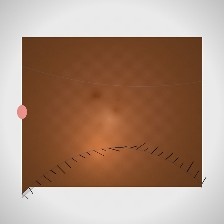hemorrhage_spot: (86, 76, 180, 151)
